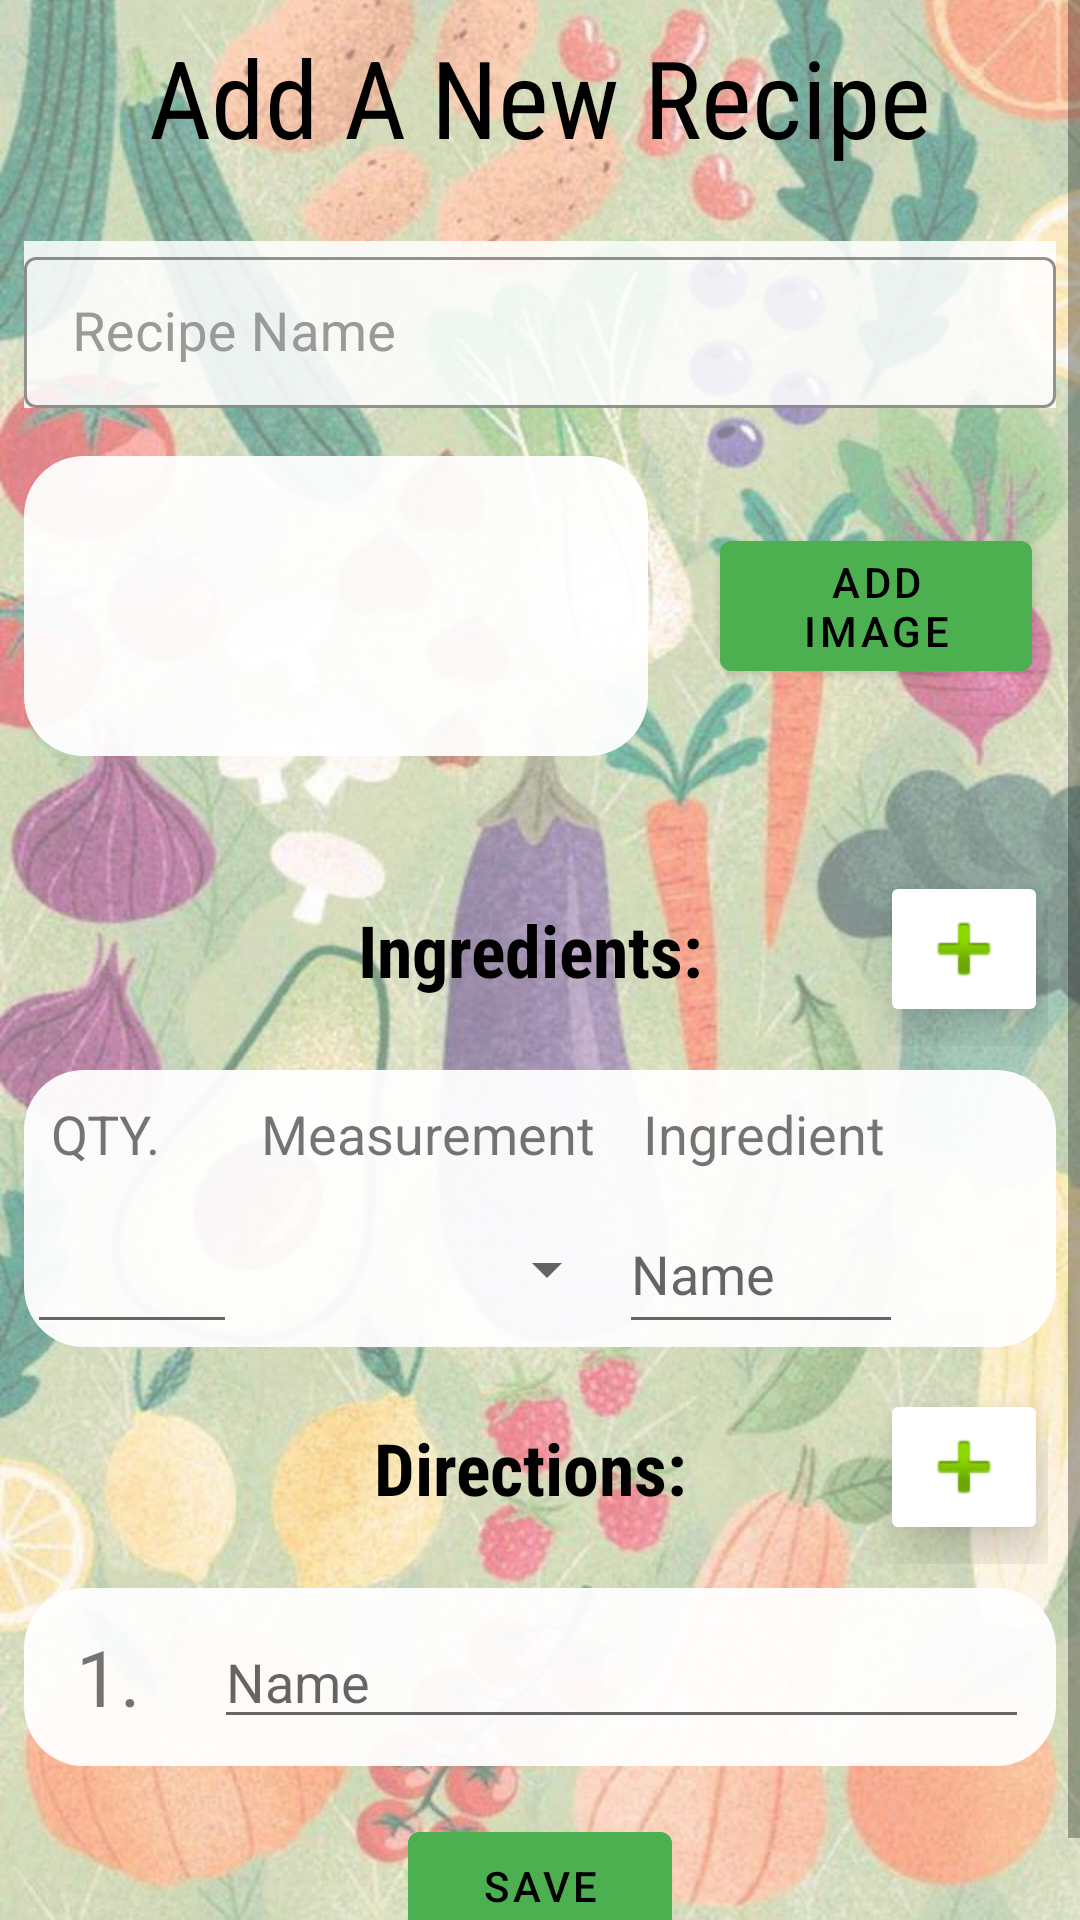

Icons on this 1080×1920 Android screen, each with the point to tap as (x=x, y=y):
add: (x=964, y=958), (x=964, y=1467)
